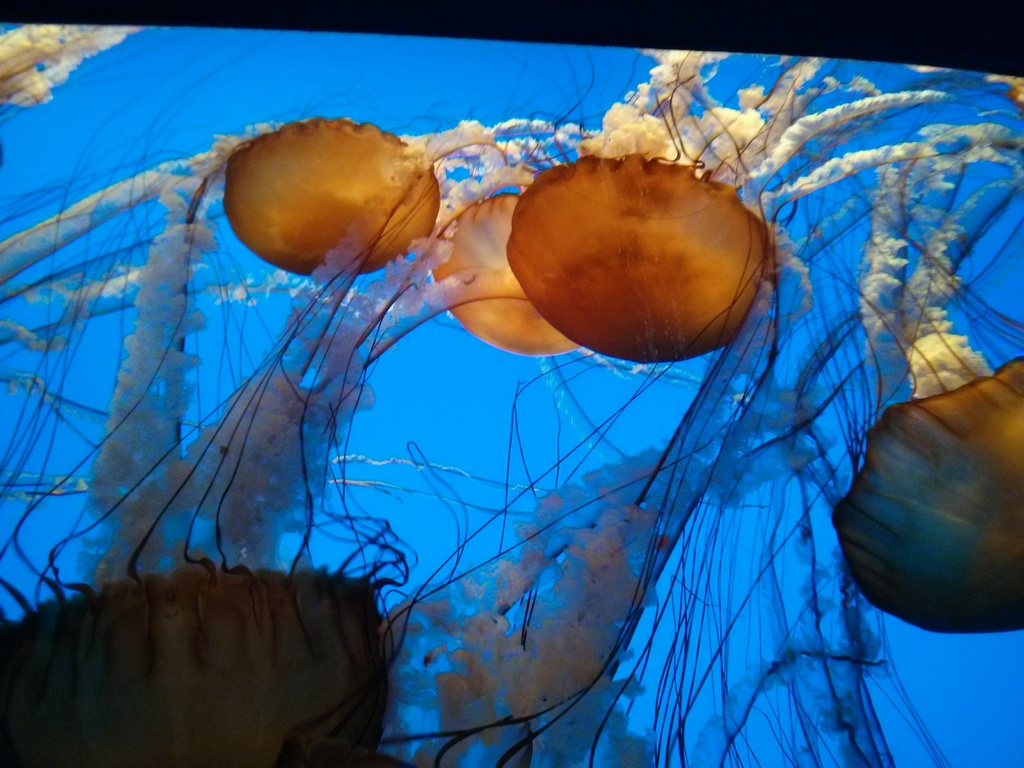Jellyfish: (0, 108, 753, 767), (593, 58, 1023, 767), (0, 106, 458, 600), (499, 45, 957, 360), (414, 40, 768, 357)
